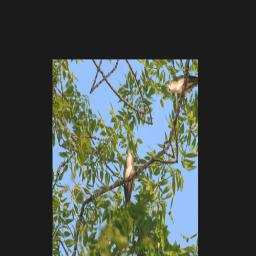Cuckoo: (107, 146, 148, 212)
